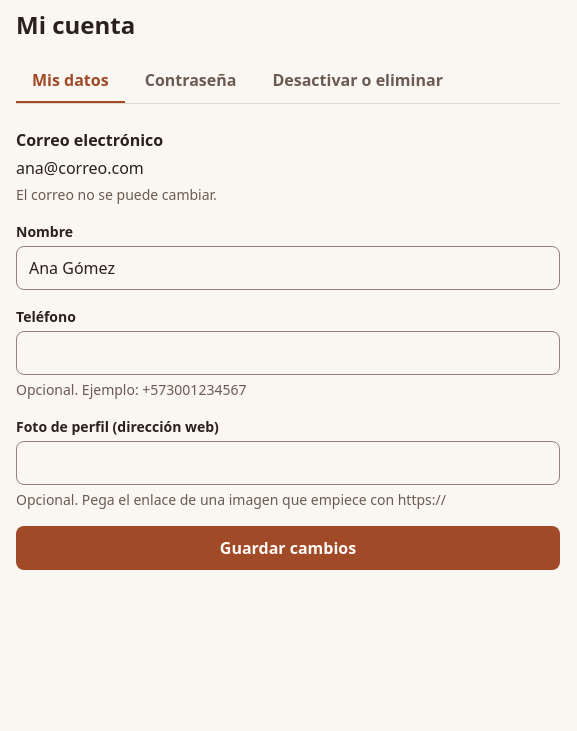
MiCuentaPage › al guardar los datos los envía a la API y muestra la foto nueva
Replace the text in the field labelled "Nombre" with "Ana María" at (288, 268), box top-left (16, 246), bottom-right (560, 290)
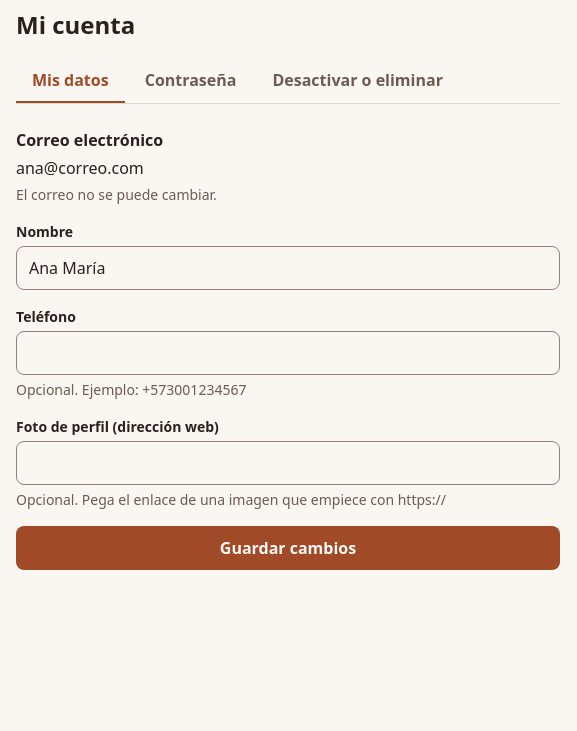
Type "https://fotos.ejemplo.com/nueva.jpg" into the field labelled "Foto de perfil (dirección web)" at (288, 463), box top-left (16, 441), bottom-right (560, 485)
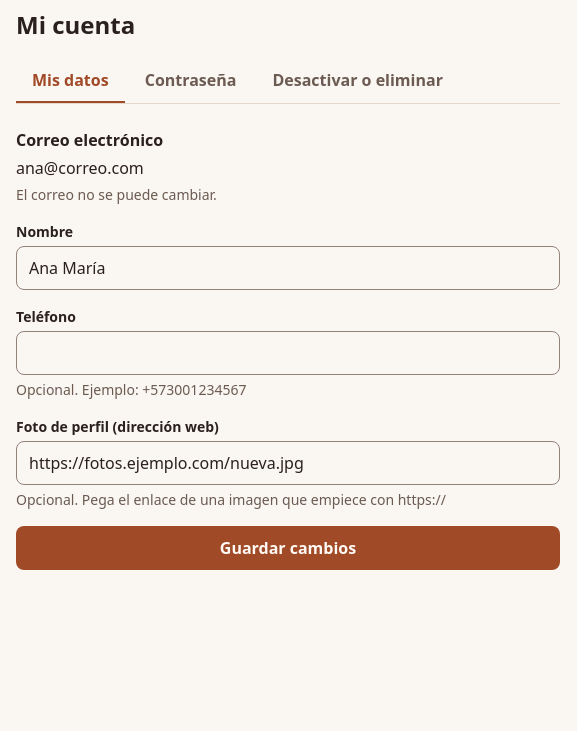
Click the button "Guardar cambios" at (288, 548), box top-left (16, 526), bottom-right (560, 570)
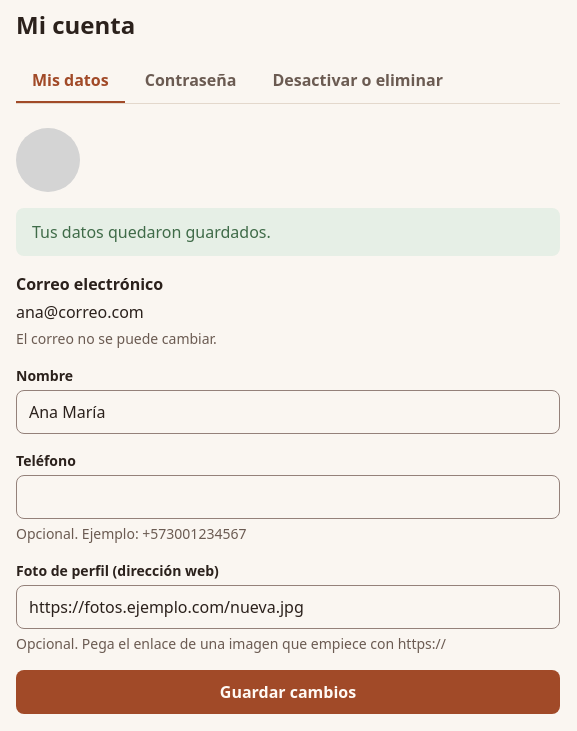
Now the text "Tus datos quedaron guardados." is shown, box top-left (16, 208), bottom-right (560, 256)
